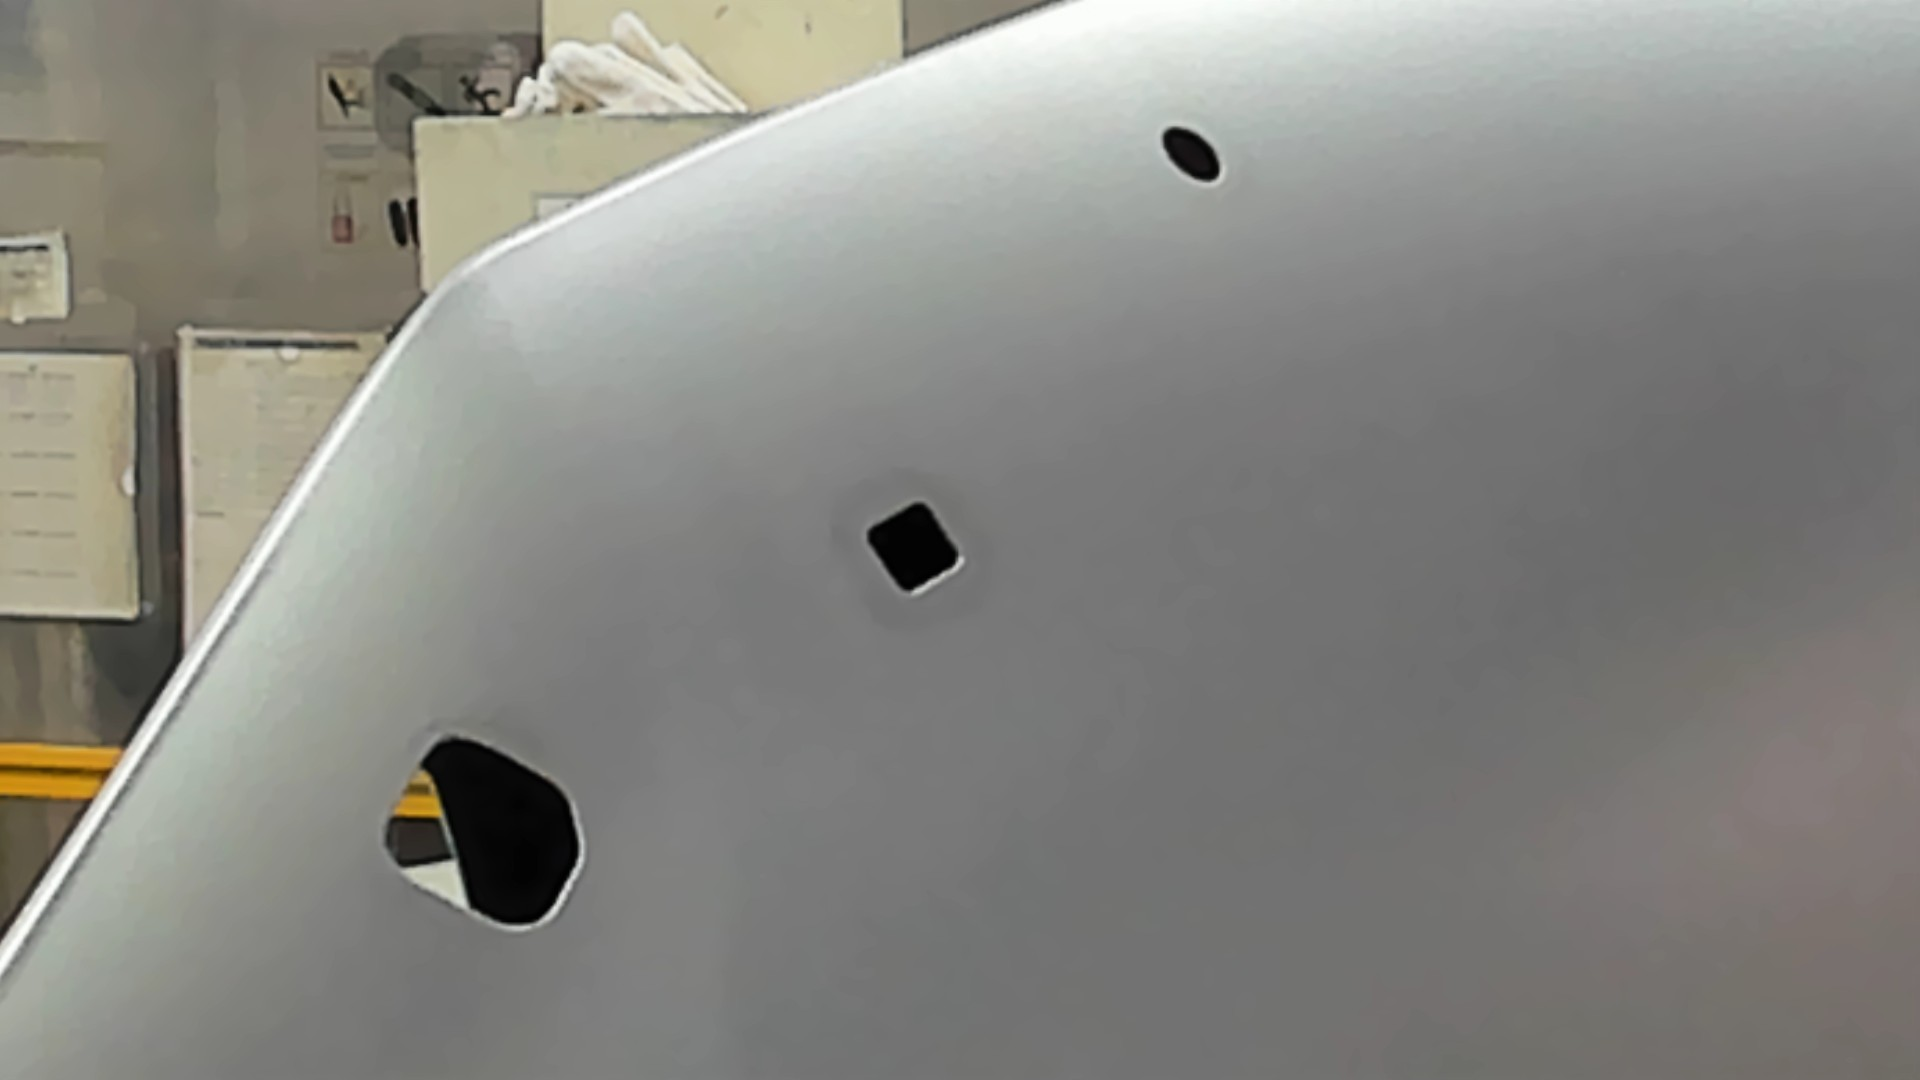capo: (969, 194, 1920, 1080)
chico: (1156, 120, 1228, 189)
grande: (375, 724, 591, 938)
mediano: (861, 495, 969, 608)
